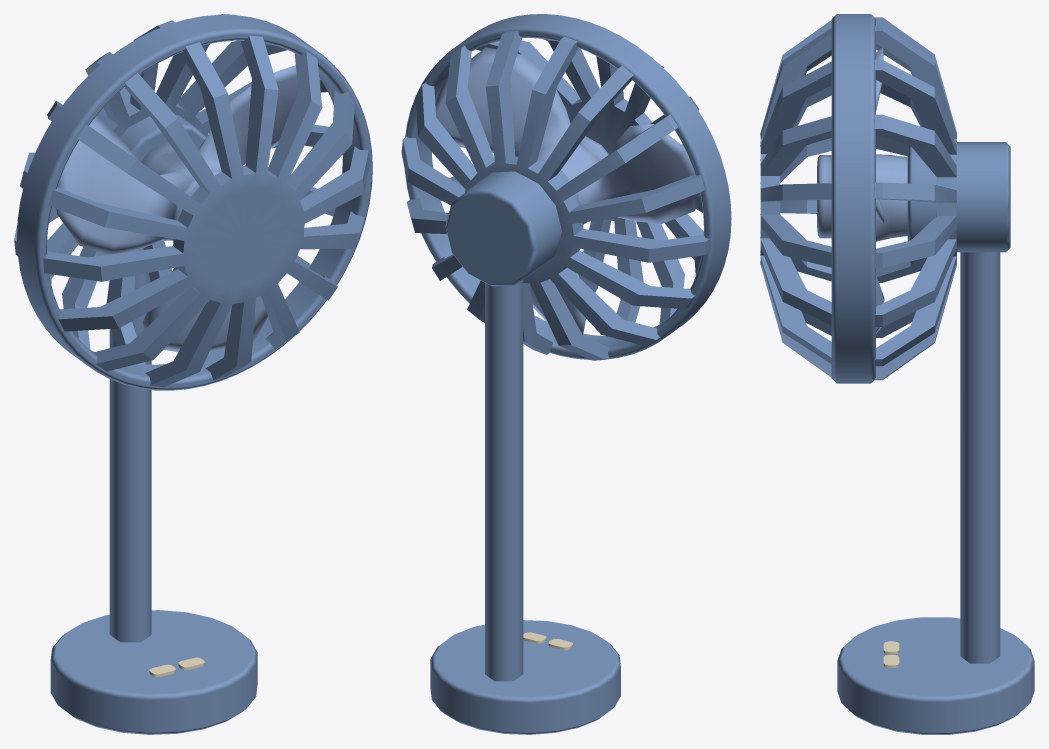
The picture shows the model from 3 angles, left to right: view 1: azimuth 30°, elevation 25°; view 2: azimuth 150°, elevation 25°; view 3: azimuth 270°, elevation 25°; orthographic projection. The views are drawn at different scales.
Parts seen in each view (by area): view 1: Cylinder 13, Cylinder 14, Cylinder 19, Cylinder 16, Cylinder 18, Cylinder 15, Cylinder 17; view 2: Cylinder 15, Cylinder 14, Cylinder 19, Cylinder 18, Cylinder 16, Cylinder 17, Cylinder 13; view 3: Cylinder 15, Cylinder 19, Cylinder 13, Cylinder 18, Cylinder 14, Cylinder 17, Cylinder 16.
Boxes of the visible parts, box(x1,y1,x2,y2) form: Cylinder 13: box(43, 35, 369, 387); Cylinder 14: box(17, 14, 372, 390); Cylinder 19: box(50, 610, 257, 734); Cylinder 16: box(56, 65, 320, 352); Cylinder 18: box(109, 248, 151, 642); Cylinder 15: box(14, 14, 335, 364); Cylinder 17: box(97, 88, 206, 161); Cylinder 15: box(401, 31, 709, 360); Cylinder 14: box(404, 14, 731, 359); Cylinder 19: box(430, 620, 620, 734); Cylinder 18: box(485, 280, 523, 681); Cylinder 16: box(435, 47, 701, 334); Cylinder 17: box(445, 157, 580, 286); Cylinder 13: box(434, 39, 703, 339); Cylinder 15: box(874, 17, 956, 380); Cylinder 19: box(837, 617, 1034, 734); Cylinder 13: box(760, 20, 831, 377); Cylinder 18: box(960, 252, 1000, 663); Cylinder 14: box(831, 14, 875, 383); Cylinder 17: box(907, 142, 1010, 252); Cylinder 16: box(817, 47, 907, 333).
Size of the model in its own units: 1.49 by 2.94 by 1.1.
